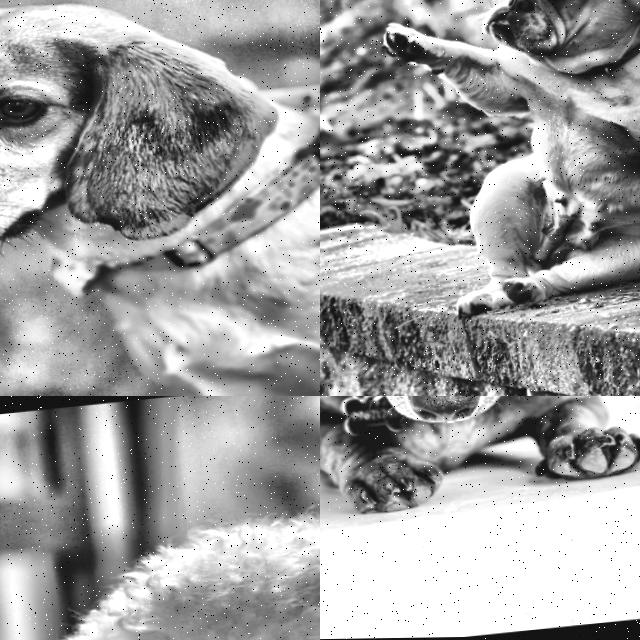beagle: (0, 0, 298, 308), (320, 396, 640, 461)
bulldog: (452, 0, 640, 97)
poodle: (0, 465, 320, 640)
